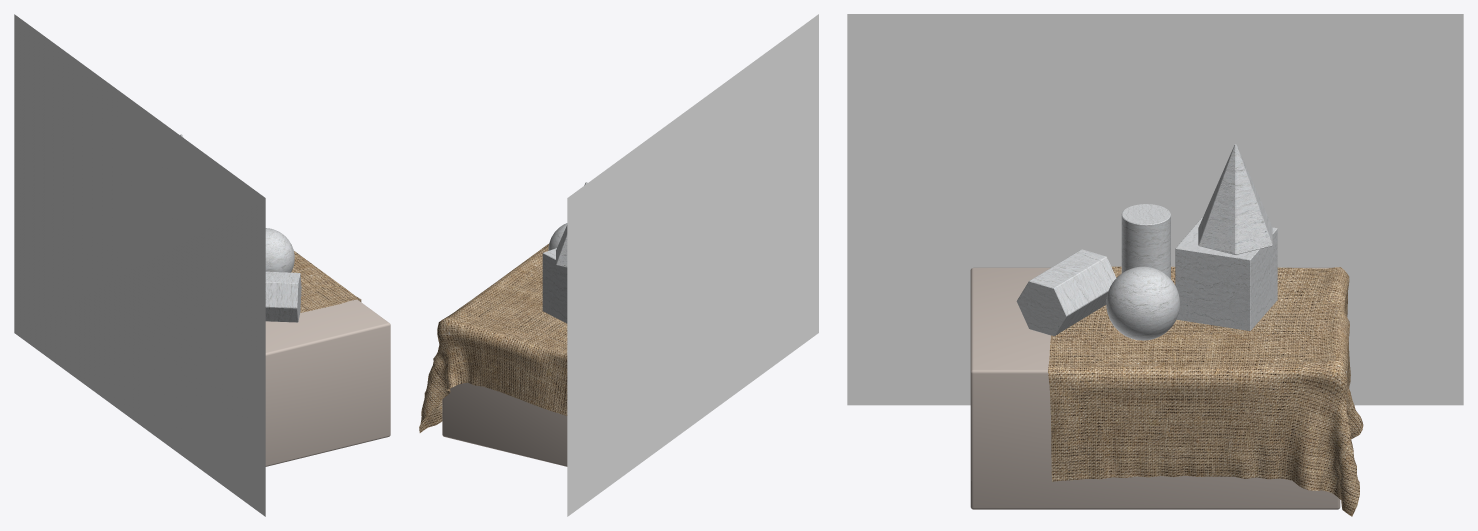
Rendered from scene_geometric_figures_common.fbx.
3 views of the same model, side by side, from view 1: azimuth 30°, elevation 25°; view 2: azimuth 150°, elevation 25°; view 3: azimuth 270°, elevation 25° (orthographic). The views are drawn at different scales.
Visible parts, largest first — view 1: back, table, cloth, Prism, Sphere; view 2: back, cloth, table, Cube; view 3: back, cloth, table, Cube, Prism, Cone, Sphere, Cylinder.
Part boxes in pixels (x1,y1,x2,y2): back: (14, 14, 265, 516); table: (265, 299, 390, 466); cloth: (291, 251, 361, 312); Prism: (265, 271, 301, 322); Sphere: (265, 228, 294, 272); back: (567, 14, 818, 516); cloth: (419, 243, 567, 432); table: (442, 382, 567, 466); Cube: (542, 248, 567, 323); back: (847, 14, 1463, 405); cloth: (1048, 266, 1363, 516); table: (970, 267, 1340, 509); Cube: (1175, 217, 1277, 330); Prism: (1016, 249, 1116, 336); Cone: (1198, 144, 1272, 254); Sphere: (1106, 266, 1179, 340); Cylinder: (1121, 204, 1170, 278).
Size of the model in its own units: 88.73 by 140 by 200.
Materials: 4 (2 with a texture image).
